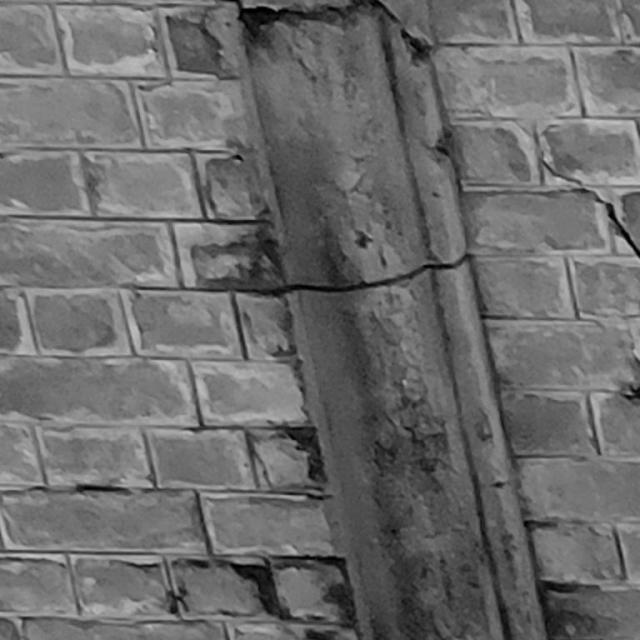crack: (540, 150, 640, 257)
